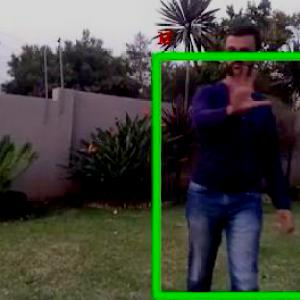follow_hand: (223, 59, 274, 117)
